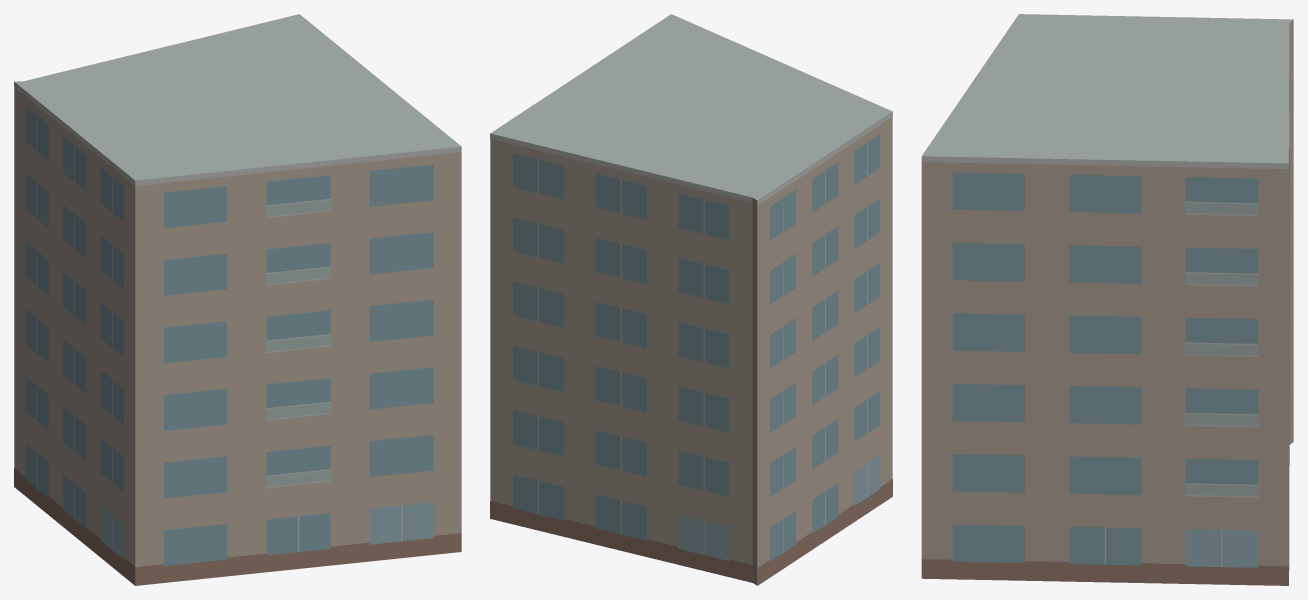
The model's file is survey-upis-32921195.glb.
3 renders of one model, left to right at view 1: azimuth 30°, elevation 25°; view 2: azimuth 150°, elevation 25°; view 3: azimuth 270°, elevation 25°, orthographic. The views are drawn at different scales.
Parts seen in each view (by area): view 1: survey-upis-32921195.tmp; view 2: survey-upis-32921195.tmp; view 3: survey-upis-32921195.tmp.
Part boxes in pixels (left/top/right/bottom): survey-upis-32921195.tmp: left=14, top=14, right=461, bottom=585; survey-upis-32921195.tmp: left=490, top=14, right=892, bottom=585; survey-upis-32921195.tmp: left=921, top=14, right=1293, bottom=585.
Bounding box in the file's own units: 13.59 × 17.9 × 14.29.
